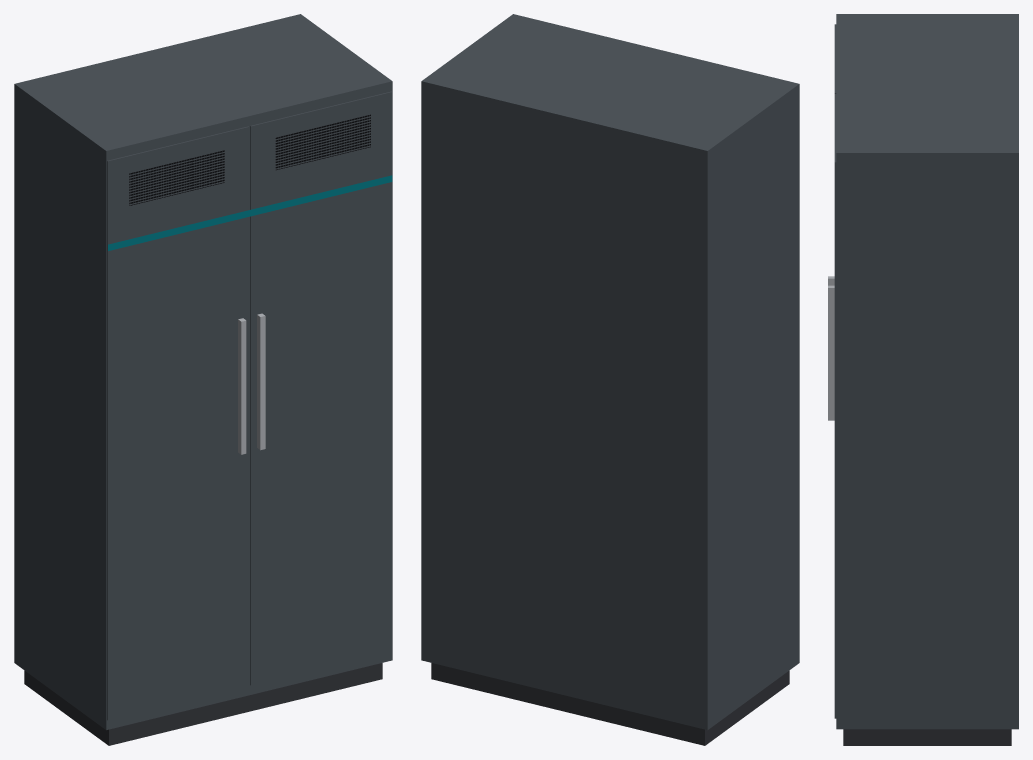
Rendered from Cabinet_Tool.glb.
The picture shows the model from 3 angles, left to right: view 1: azimuth 30°, elevation 25°; view 2: azimuth 150°, elevation 25°; view 3: azimuth 270°, elevation 25°; orthographic projection.
Visible parts, largest first — view 1: Cabinet_Tool; view 2: Cabinet_Tool; view 3: Cabinet_Tool.
Boxes of the visible parts, <box> form: Cabinet_Tool: <box>14,14,392,745</box>; Cabinet_Tool: <box>421,14,799,745</box>; Cabinet_Tool: <box>828,14,1018,745</box>.
Size of what is drawn, in the model's own units: 0.9 by 1.8 by 0.522.
5 materials, 1 textured.
